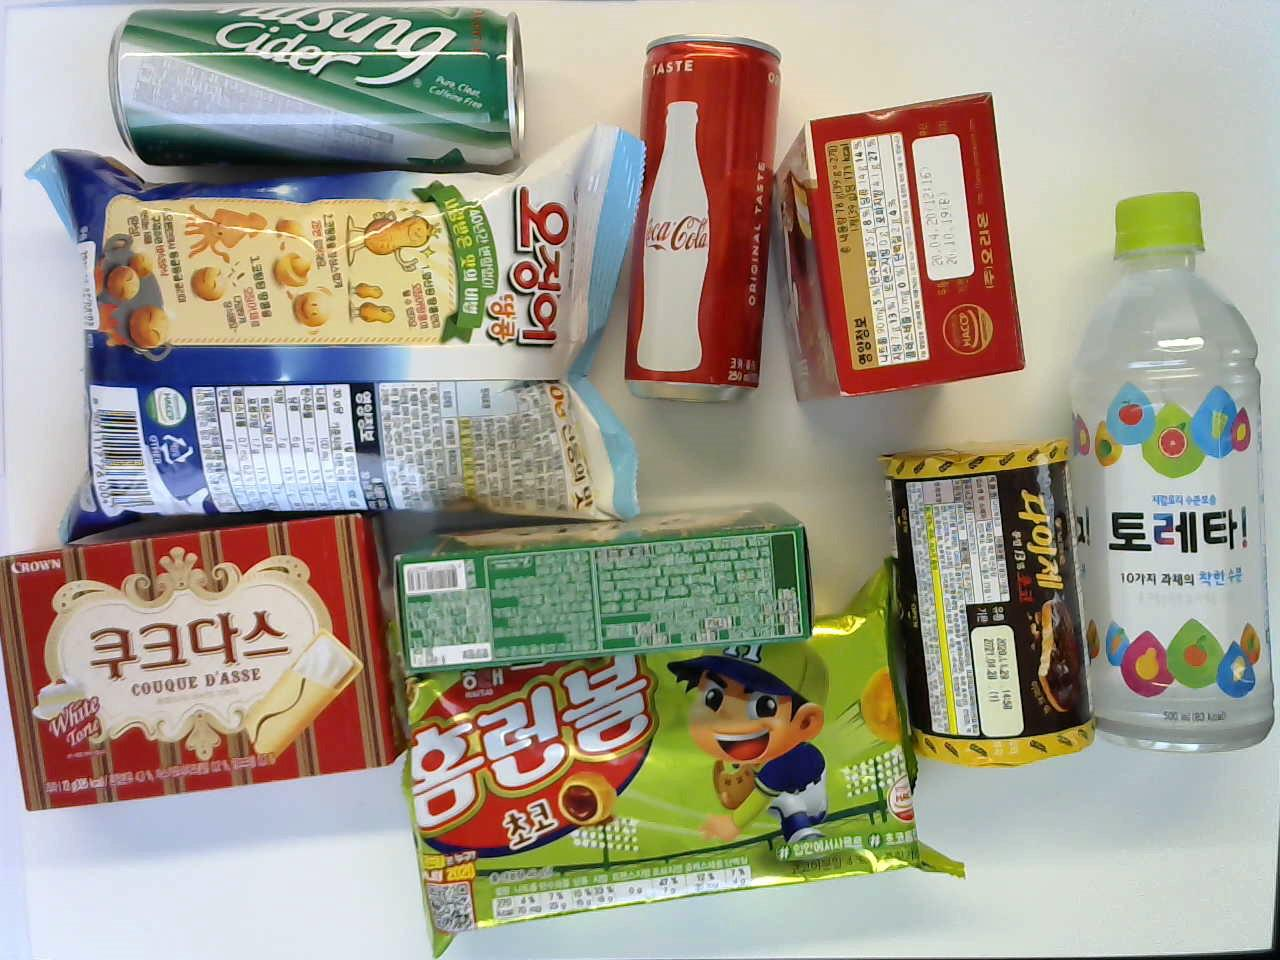chocopie: (779, 92, 1024, 419)
cidar: (103, 6, 536, 176)
coke: (615, 39, 792, 404)
couque_coffee: (388, 497, 817, 668)
couque_white: (5, 509, 392, 813)
diget_choco: (875, 439, 1097, 763)
homerunball: (398, 628, 959, 945)
squid_peanut: (22, 142, 650, 517)
toreta: (1076, 191, 1273, 762)
